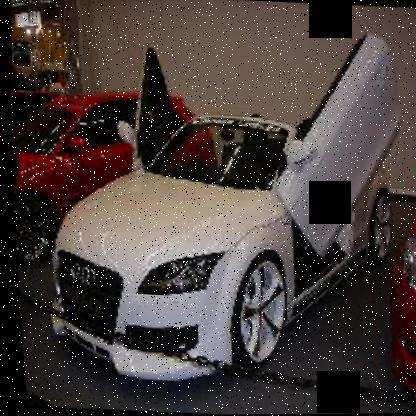not_emergency: (22, 87, 404, 380)
